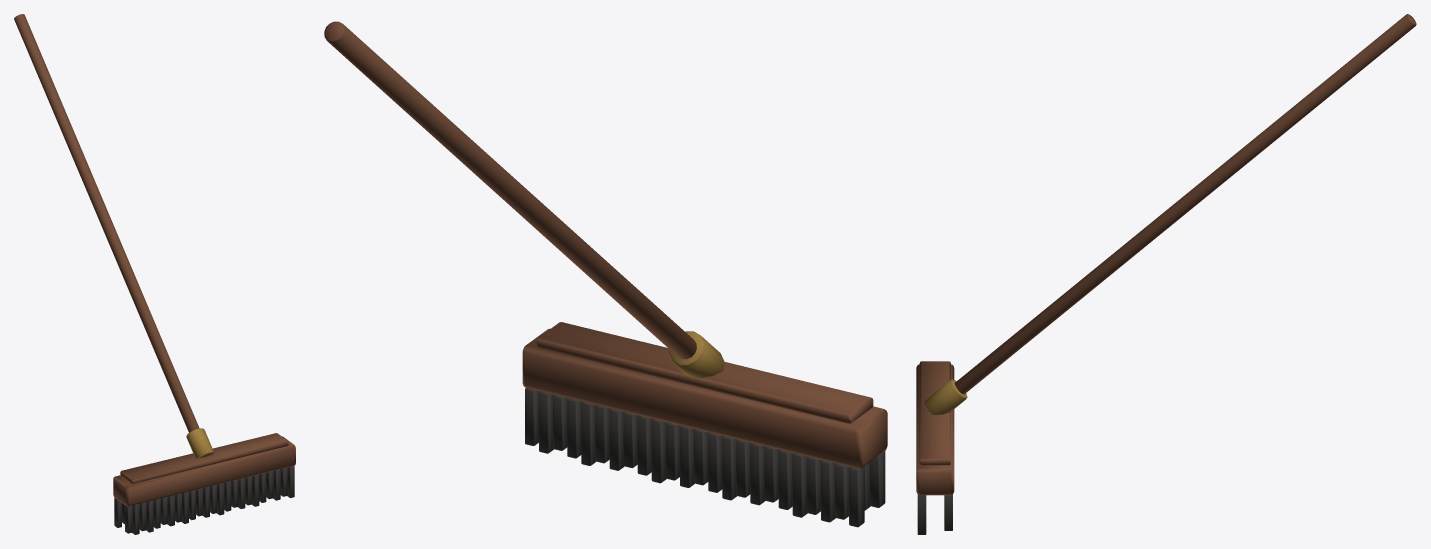
File: asset_074_broom_fp.glb
3 views of the same model, side by side, from view 1: azimuth 30°, elevation 25°; view 2: azimuth 150°, elevation 25°; view 3: azimuth 270°, elevation 25° (orthographic). The views are drawn at different scales.
Parts seen in each view (by area): view 1: MESH_BroomHandle, MESH_BroomBristles, MESH_BroomBlock, MESH_BroomBlockCap, MESH_BroomFerrule; view 2: MESH_BroomBristles, MESH_BroomBlock, MESH_BroomHandle, MESH_BroomBlockCap, MESH_BroomFerrule; view 3: MESH_BroomHandle, MESH_BroomBlockCap, MESH_BroomBlock, MESH_BroomFerrule, MESH_BroomBristles.
Boxes of the visible parts, x1=… form: MESH_BroomHandle: x1=14, y1=14, x2=199, y2=432; MESH_BroomBristles: x1=114, y1=466, x2=294, y2=534; MESH_BroomBlock: x1=113, y1=436, x2=295, y2=506; MESH_BroomBlockCap: x1=120, y1=433, x2=288, y2=483; MESH_BroomFerrule: x1=186, y1=428, x2=214, y2=458; MESH_BroomBristles: x1=525, y1=388, x2=885, y2=527; MESH_BroomBlock: x1=522, y1=328, x2=887, y2=468; MESH_BroomHandle: x1=324, y1=21, x2=696, y2=359; MESH_BroomBlockCap: x1=537, y1=322, x2=873, y2=423; MESH_BroomFerrule: x1=669, y1=331, x2=724, y2=378; MESH_BroomHandle: x1=954, y1=14, x2=1416, y2=394; MESH_BroomBlockCap: x1=919, y1=361, x2=950, y2=465; MESH_BroomBlock: x1=916, y1=364, x2=954, y2=495; MESH_BroomFerrule: x1=924, y1=379, x2=967, y2=414; MESH_BroomBristles: x1=917, y1=494, x2=952, y2=534.
Size of the model in its own units: 0.52 by 1.06 by 1.03.
